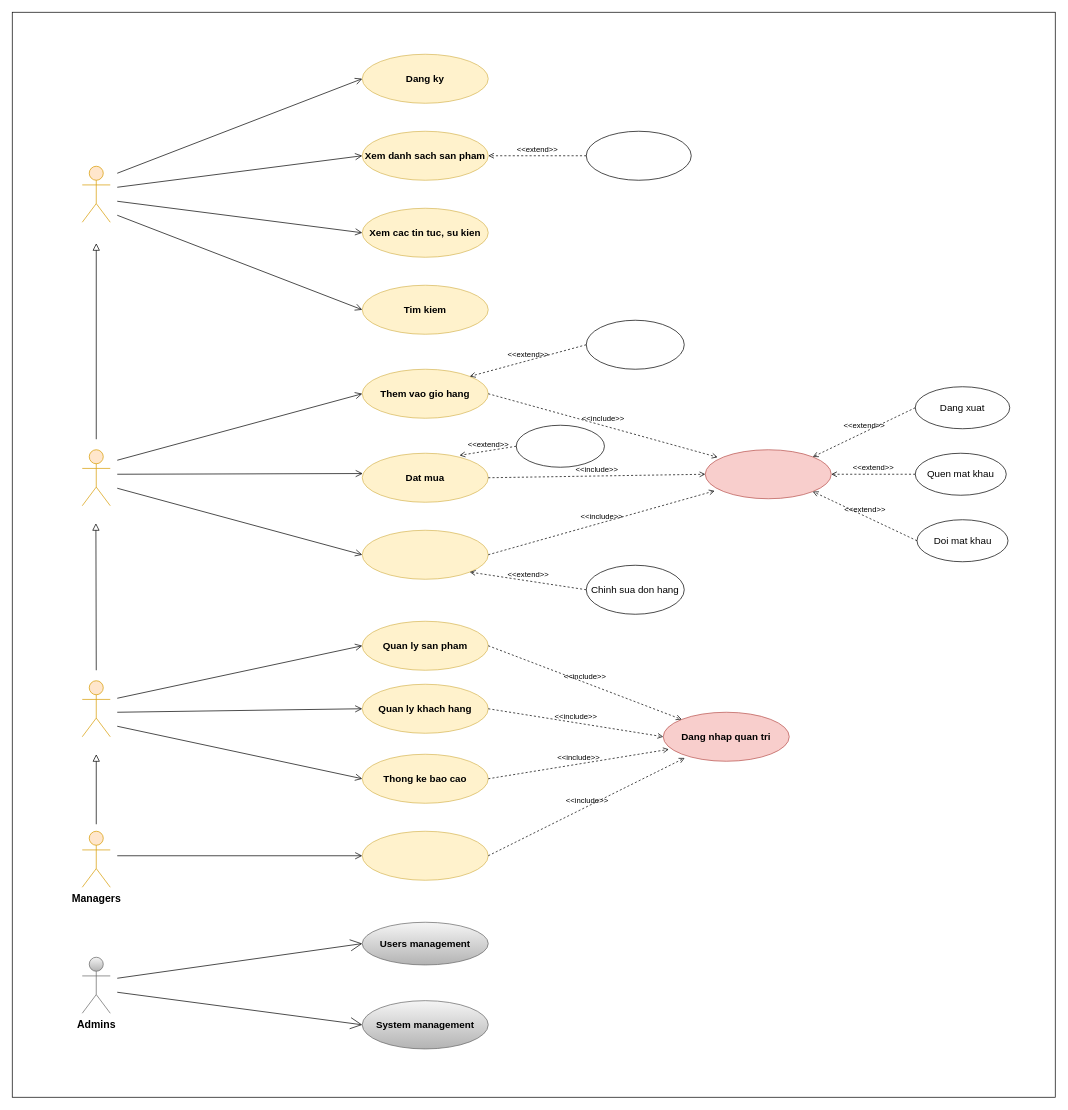
Some shapes in this 1068 by 1110 pixel diagram are drawn without their labels. The centre of each missing label's shape, as x and y in pixels:
"Dang nhap" belongs at point (768, 474).
"Employees management" belongs at point (425, 855).
"Guest Users" belongs at point (96, 194).
"Registered Users" belongs at point (96, 477).
"Staffs" belongs at point (96, 708).
"Thanh toan online" belongs at point (560, 446).
"Tu thiet ke mau san pham" belongs at point (635, 344).
"Xem danh sach don hang" belongs at point (425, 554).
"Xem thong tin chi tiet san pham" belongs at point (638, 155).
